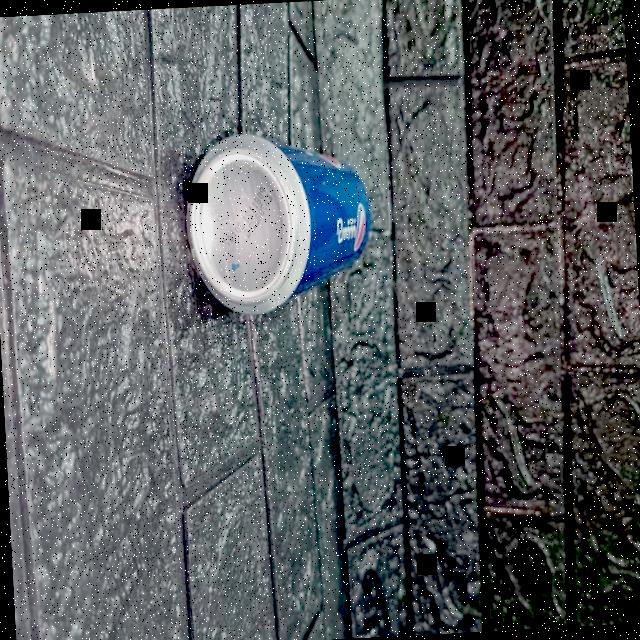can: (183, 123, 378, 317)
